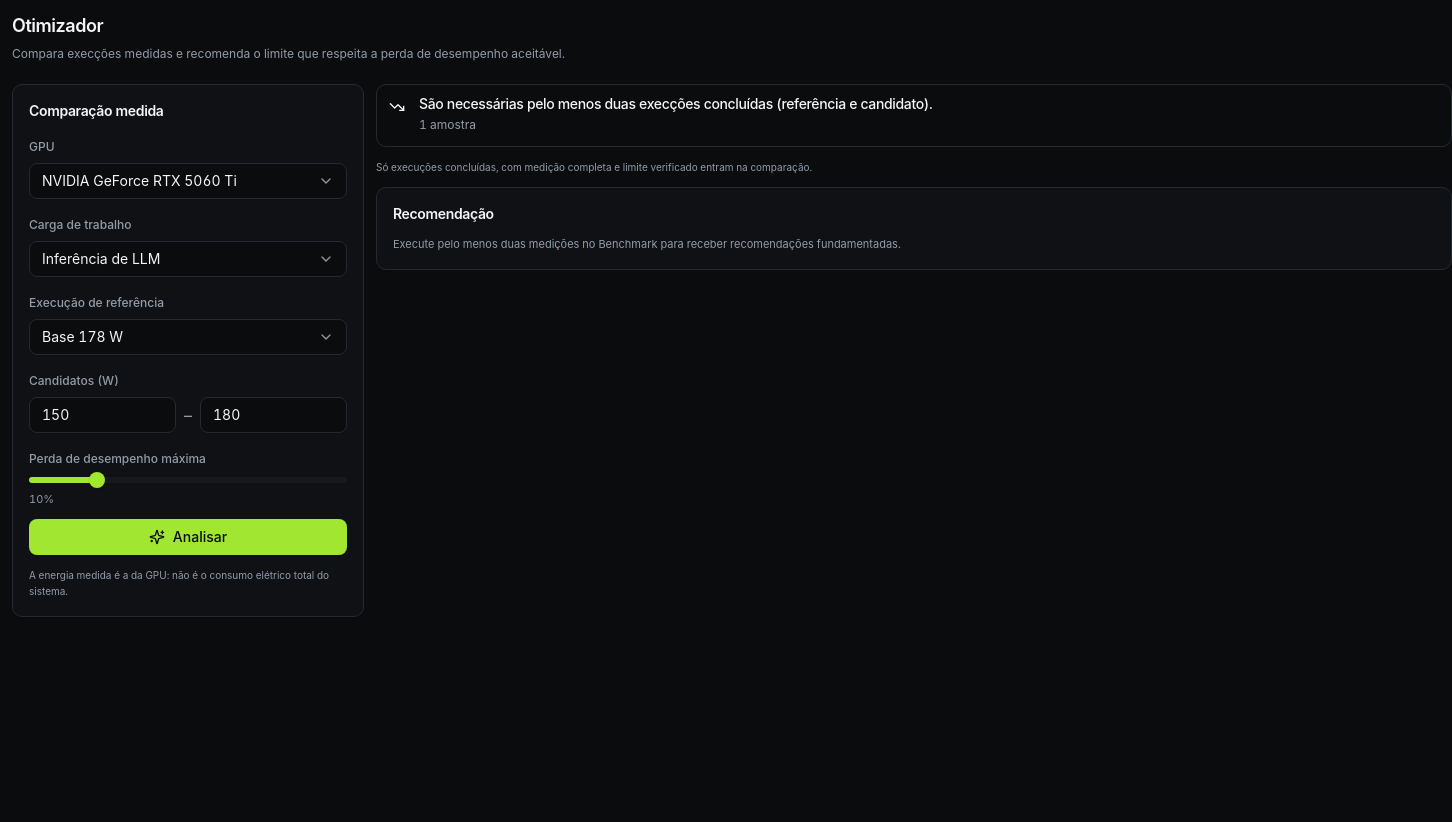
Test: OptimizerPage › highlights the recommendation of the service and never picks one on its own
Click the button "Analisar": (188, 537) [29, 519, 347, 555]
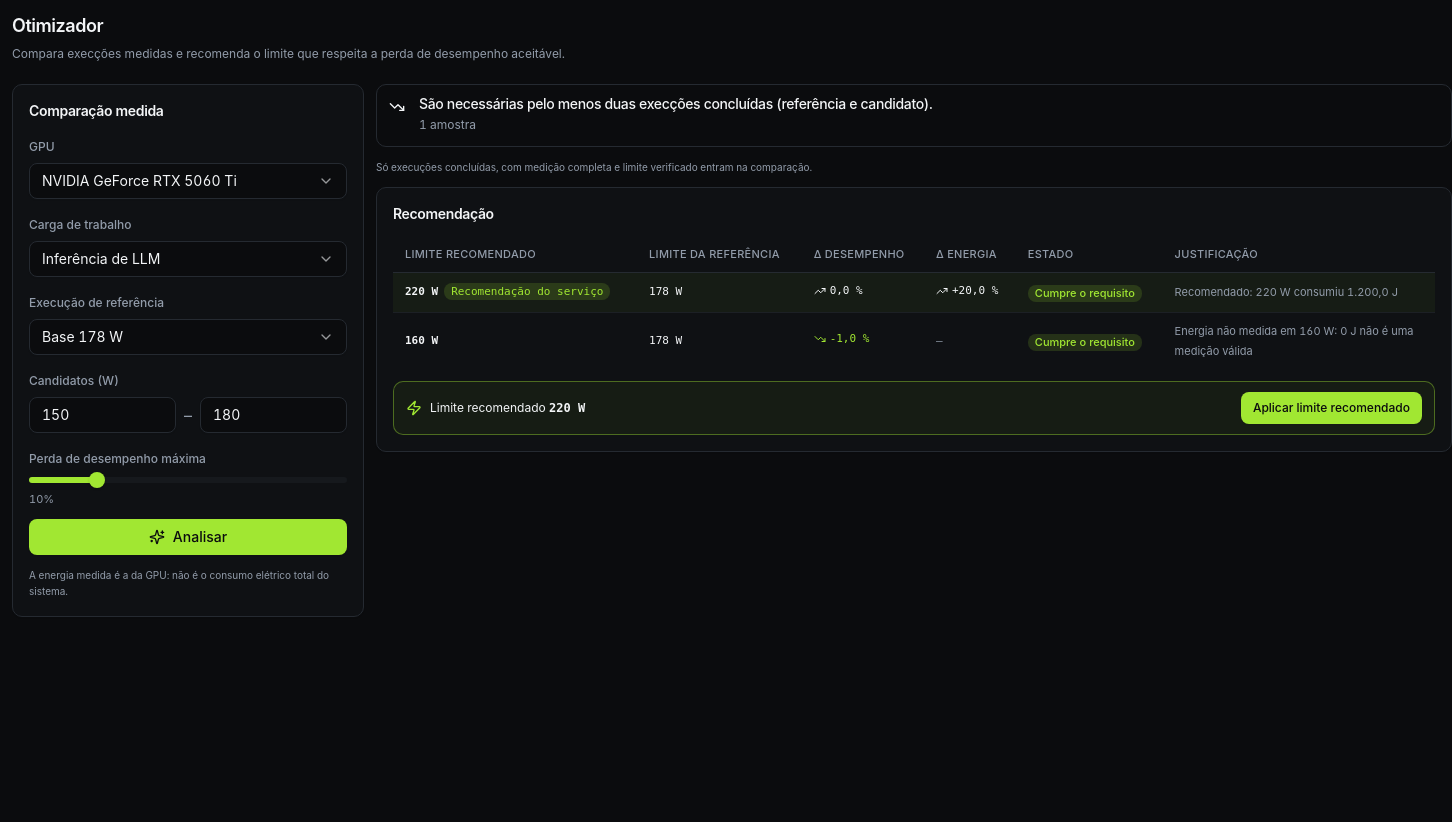
Now the row that starts with "220 W" is shown, box [393, 272, 1435, 312]
Now the text "220 W" is shown, box [405, 285, 438, 298]
Now the row that starts with "220 W" shows "Recomendado: 220 W consumiu 1.200,0 J", box [1175, 285, 1398, 299]
